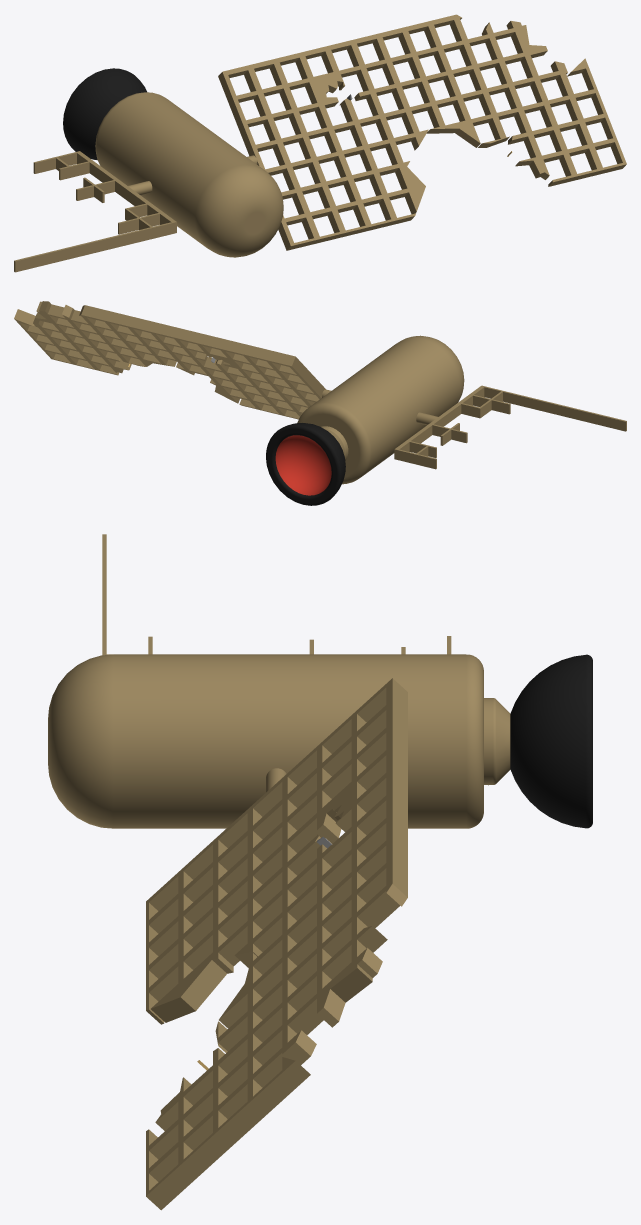
Rendered from Broken_Sattelite v1.fbx.
3 views of the same model, one above another, from view 1: azimuth 30°, elevation 25°; view 2: azimuth 150°, elevation 25°; view 3: azimuth 270°, elevation 25° (orthographic). The views are drawn at different scales.
Parts seen in each view (by area): view 1: Body1; view 2: Body1; view 3: Body1.
Part boxes in pixels (x1,y1,x2,y2): Body1: (14,14,626,272); Body1: (14,301,626,505); Body1: (48,534,592,1210).
Bounding box in the file's own units: 2970 × 601 × 1250.
